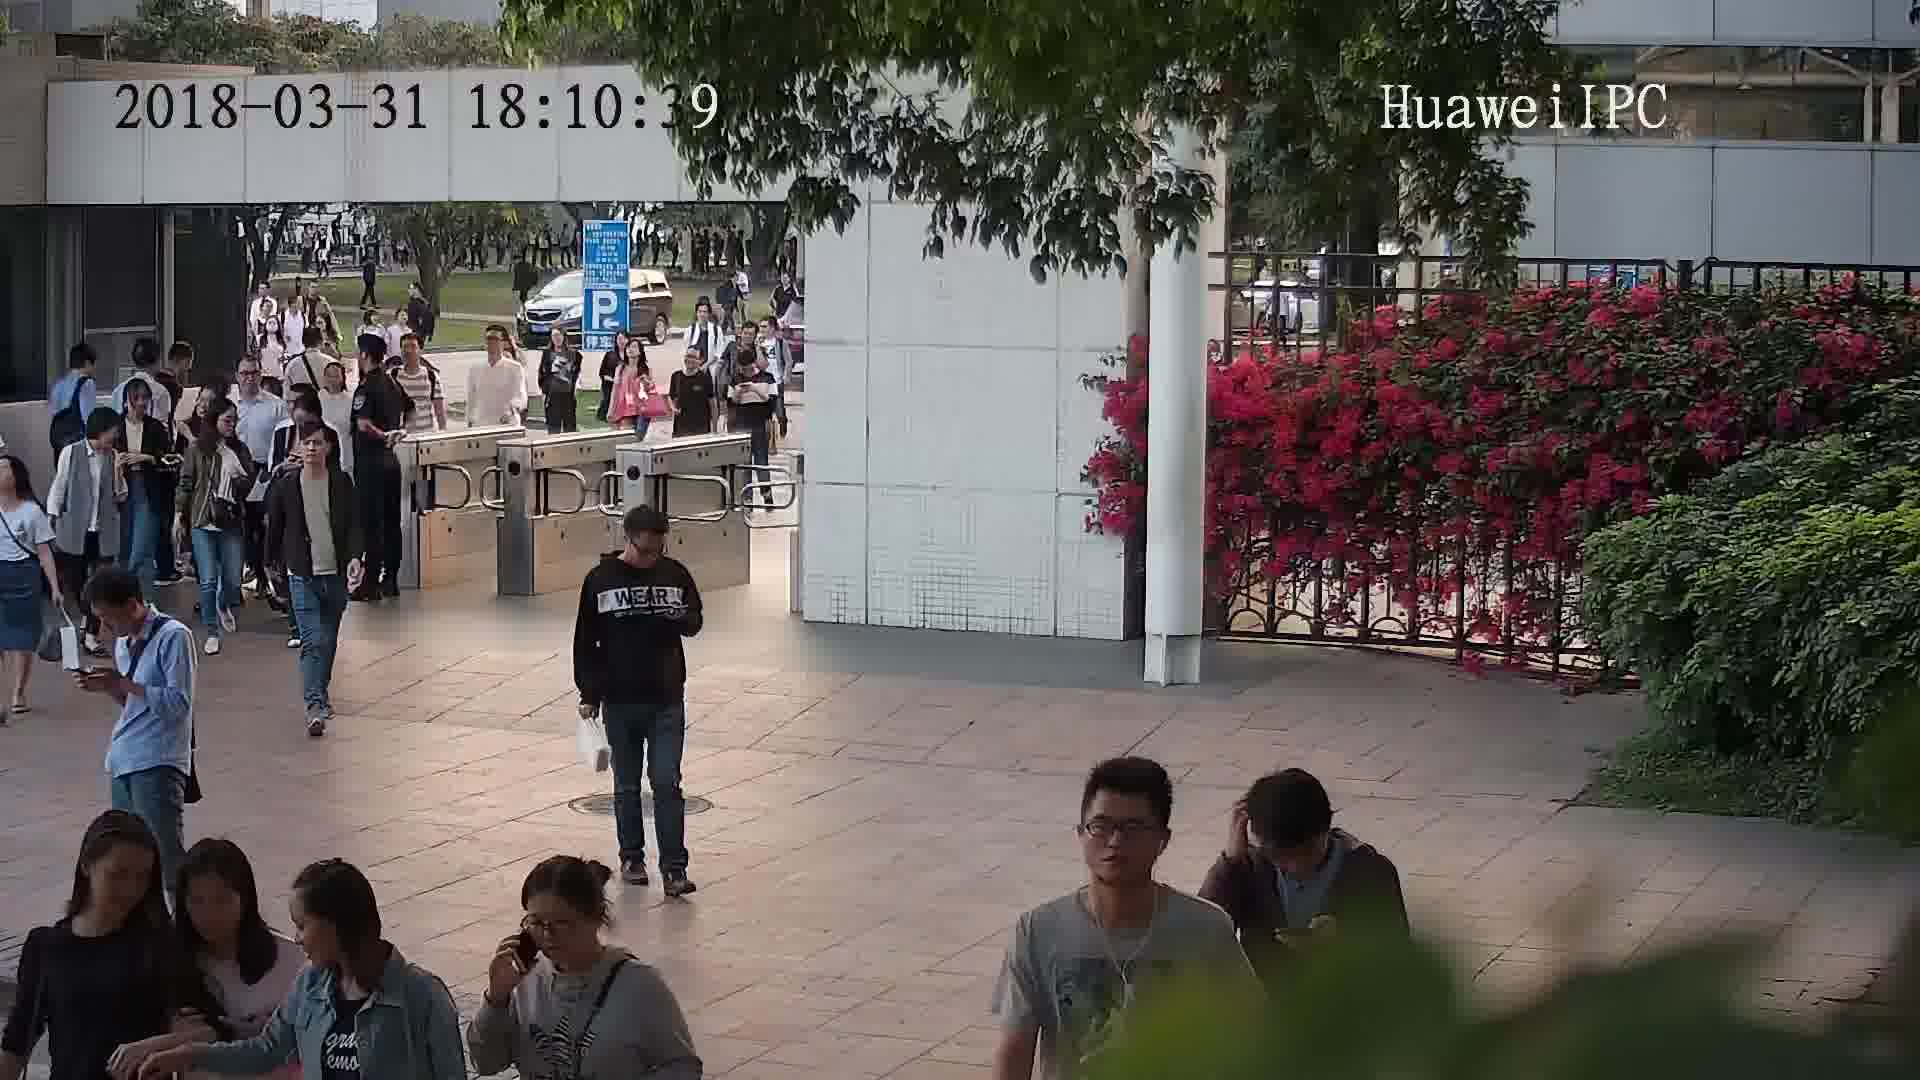face: (1071, 789, 1167, 885), (267, 888, 351, 972), (85, 839, 166, 920), (521, 894, 591, 963), (180, 875, 248, 943)
person: (1007, 753, 1228, 971), (499, 854, 681, 1024), (280, 859, 456, 1032), (24, 811, 176, 974), (1215, 765, 1395, 889), (173, 835, 296, 977), (90, 563, 192, 662), (583, 502, 692, 595), (276, 421, 356, 501), (62, 404, 127, 463), (1, 452, 49, 531), (190, 398, 248, 461), (234, 356, 283, 417), (470, 320, 522, 377), (115, 377, 164, 437), (119, 335, 165, 396), (52, 341, 103, 396), (356, 335, 401, 397), (317, 354, 361, 411), (158, 337, 200, 398), (392, 328, 437, 382), (287, 322, 334, 371), (673, 342, 715, 389), (732, 351, 779, 393), (721, 321, 766, 364), (614, 336, 657, 381), (542, 317, 580, 364), (755, 313, 794, 360), (689, 296, 719, 333), (252, 316, 289, 345), (283, 287, 311, 324), (386, 305, 421, 333), (604, 331, 633, 364)
